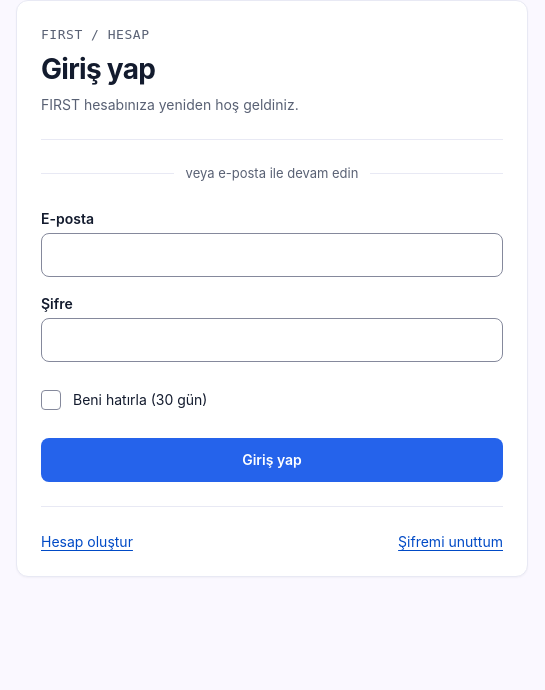
Test: normal auth forms › shows general and field errors without redirect
Type "member@example.test" into the field labelled "E-posta".
click(272, 255); type("member@example.test")  # box [41,233,503,277]
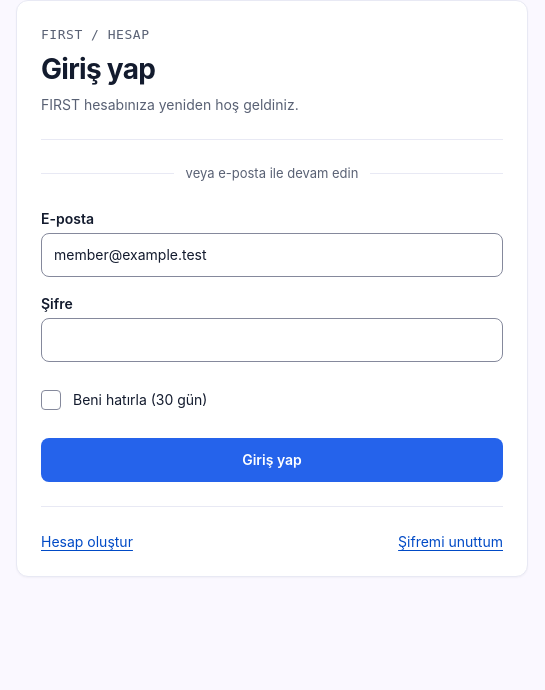
Type "Türkçe42!" into the password field labelled "Şifre".
click(272, 340); type("Türkçe42!")  # box [41,318,503,362]
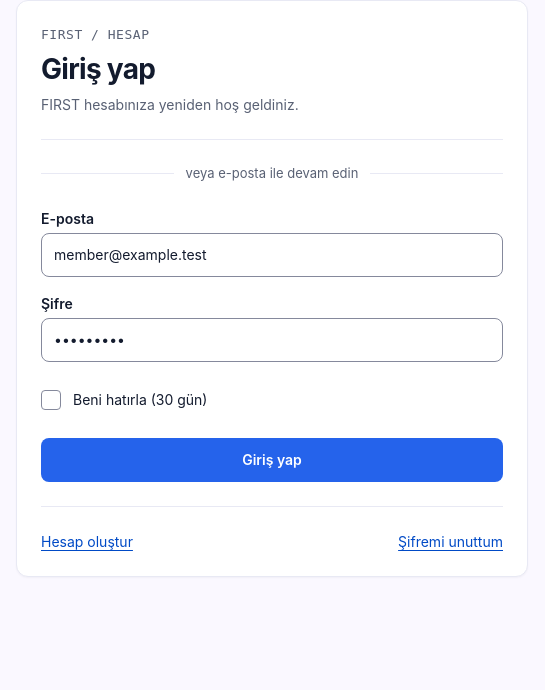
Submit the form "Giriş yap", box [41,208,503,482]
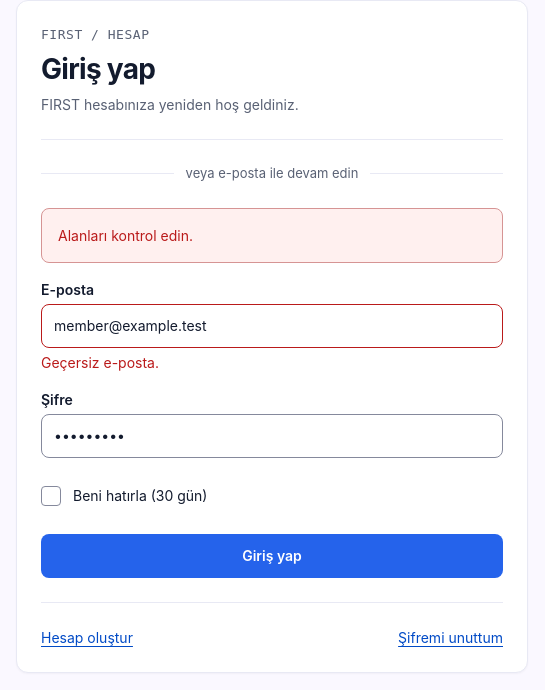
Expected: the button is enabled, [41,534,503,578]
Result: the message reads "Alanları kontrol edin." at [58,227,193,244]
